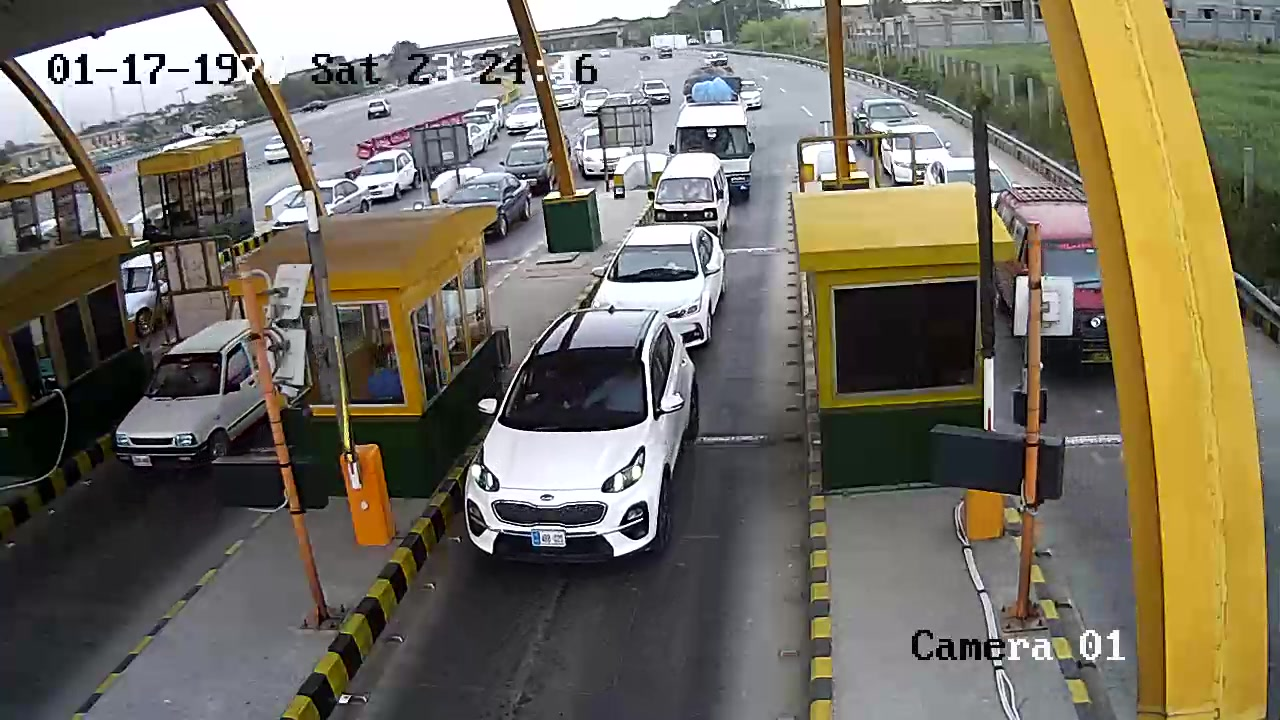F1: (470, 309, 691, 578)
